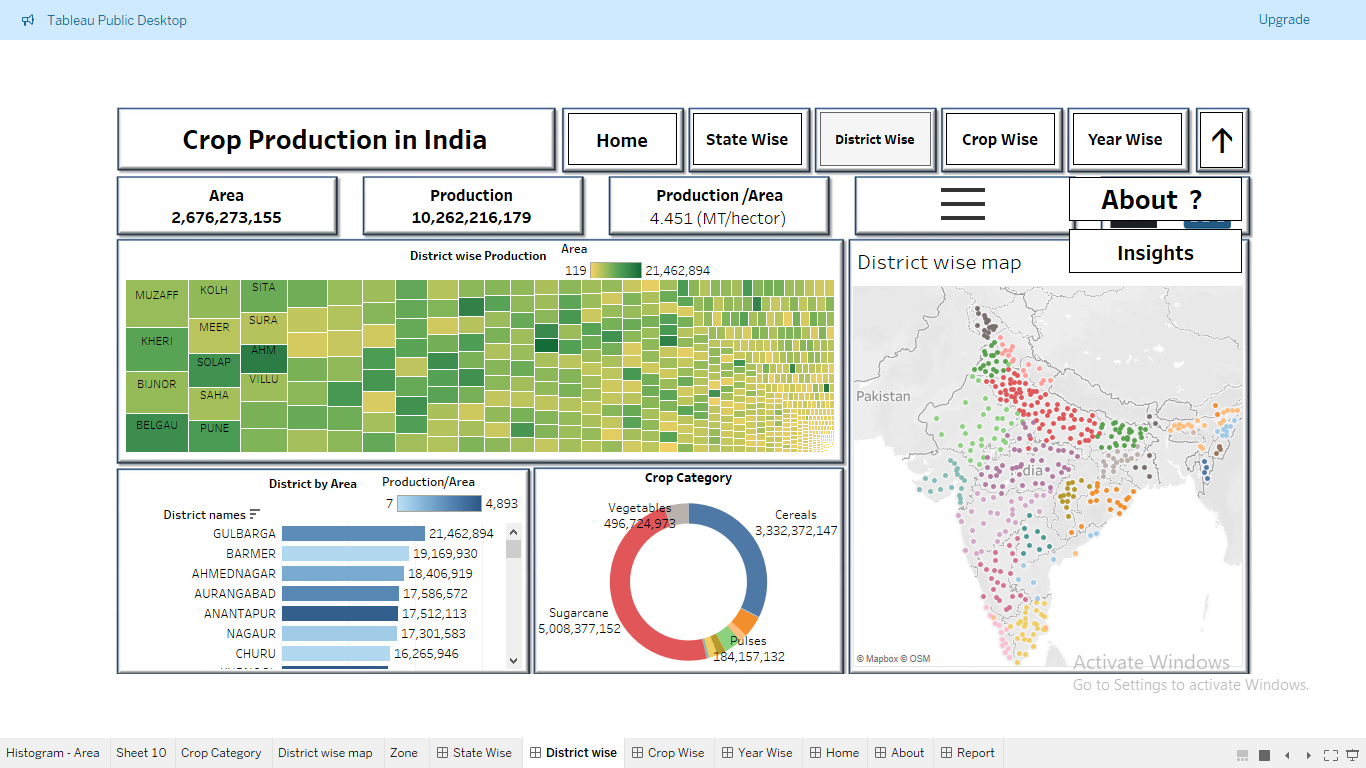

The page's visual inventory and layout, read from the dashboard file:
{"tool":"tableau","page":{"name":"District wise","canvas":[1150,600],"ordinal":2},"visuals":[{"type":"image","param":"Image/CPII 3.jpg","box":[0,0,1150,600]},{"type":"text","box":[14,23,426,52]},{"type":"dashboard-object","box":[712,23,111,54]},{"type":"dashboard-object","box":[1092,23,43,56]},{"type":"dashboard-object","box":[460,24,109,52]},{"type":"dashboard-object","box":[585,24,109,52]},{"type":"dashboard-object","box":[838,24,109,52]},{"type":"dashboard-object","box":[965,24,109,52]},{"type":"dashboard-object","box":[957,84,181,52]},{"type":"image","param":"Image/linkedin.png","box":[1064,90,70,50]},{"type":"worksheet","title":"KPI","mark":"Automatic","box":[13,91,211,50]},{"type":"worksheet","title":"KPI ","mark":"Automatic","box":[258,91,211,48]},{"type":"worksheet","title":" Production /Area","mark":"Automatic","box":[504,91,212,47]},{"type":"dashboard-object","box":[750,91,210,48]},{"type":"image","param":"Image/github-6980894_1920.png","box":[1000,92,51,47]},{"type":"dashboard-object","box":[957,136,181,52]},{"type":"filter","title":"DW - Crop Category","param":"[federated.1tu41g31wm18641arbtzr10wprao].[none:Zone:nk]","box":[746,145,219,91]},{"type":"legend","title":"DW - Tree map","param":"[federated.1tu41g31wm18641arbtzr10wprao].[sum:Area:qk]","box":[453,151,154,38]},{"type":"worksheet","title":"DW - Tree map","mark":"Automatic","box":[13,154,717,214]},{"type":"worksheet","title":"District wise map","mark":"Automatic","box":[745,154,390,424]},{"type":"filter","title":"DW - Crop Category","param":"[federated.1tu41g31wm18641arbtzr10wprao].[none:Calculation_311592810542178305:nk","box":[746,236,219,90]},{"type":"filter","title":"DW - Crop Category","param":"[federated.1tu41g31wm18641arbtzr10wprao].[none:Crop_Year:qk]","box":[746,326,219,90]},{"type":"worksheet","title":"DW - Crop Category","mark":"Pie","rows":["Calculation_1207246187114815492","Calculation_1207246187114815492"],"box":[430,375,301,203]},{"type":"worksheet","title":"DW0 - Area","mark":"Automatic","rows":["Calculation_311592810546520068"],"cols":["Area"],"box":[13,382,401,198]},{"type":"legend","title":"DW0 - Area","param":"[federated.1tu41g31wm18641arbtzr10wprao].[sum:Production/Area:qk]","box":[274,384,141,48]},{"type":"filter","title":"DW - Crop Category","param":"[federated.1tu41g31wm18641arbtzr10wprao].[none:Crop_Category:nk]","box":[746,416,219,90]},{"type":"filter","title":"DW - Crop Category","param":"[federated.1tu41g31wm18641arbtzr10wprao].[none:Crop:nk]","box":[746,506,219,90]}]}

Visuals, with their boxes on the page's 1150x600 design canvas (x1, y1, x2, y2). These are canvas units, not pixel positions in the 1366x768 screenshot, which may show the page scaled, cropped or inside an application window:
image: bbox=[0, 0, 1150, 600]
text: bbox=[14, 23, 440, 75]
dashboard-object: bbox=[712, 23, 823, 77]
dashboard-object: bbox=[1092, 23, 1135, 79]
dashboard-object: bbox=[460, 24, 569, 76]
dashboard-object: bbox=[585, 24, 694, 76]
dashboard-object: bbox=[838, 24, 947, 76]
dashboard-object: bbox=[965, 24, 1074, 76]
dashboard-object: bbox=[957, 84, 1138, 136]
image: bbox=[1064, 90, 1134, 140]
"KPI" worksheet: bbox=[13, 91, 224, 141]
"KPI " worksheet: bbox=[258, 91, 469, 139]
" Production /Area" worksheet: bbox=[504, 91, 716, 138]
dashboard-object: bbox=[750, 91, 960, 139]
image: bbox=[1000, 92, 1051, 139]
dashboard-object: bbox=[957, 136, 1138, 188]
"DW - Crop Category" filter: bbox=[746, 145, 965, 236]
"DW - Tree map" legend: bbox=[453, 151, 607, 189]
"DW - Tree map" worksheet: bbox=[13, 154, 730, 368]
"District wise map" worksheet: bbox=[745, 154, 1135, 578]
"DW - Crop Category" filter: bbox=[746, 236, 965, 326]
"DW - Crop Category" filter: bbox=[746, 326, 965, 416]
"DW - Crop Category" worksheet (Pie marks): bbox=[430, 375, 731, 578]
"DW0 - Area" worksheet: bbox=[13, 382, 414, 580]
"DW0 - Area" legend: bbox=[274, 384, 415, 432]
"DW - Crop Category" filter: bbox=[746, 416, 965, 506]
"DW - Crop Category" filter: bbox=[746, 506, 965, 596]
